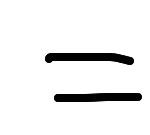eqv: (42, 50, 143, 103)
